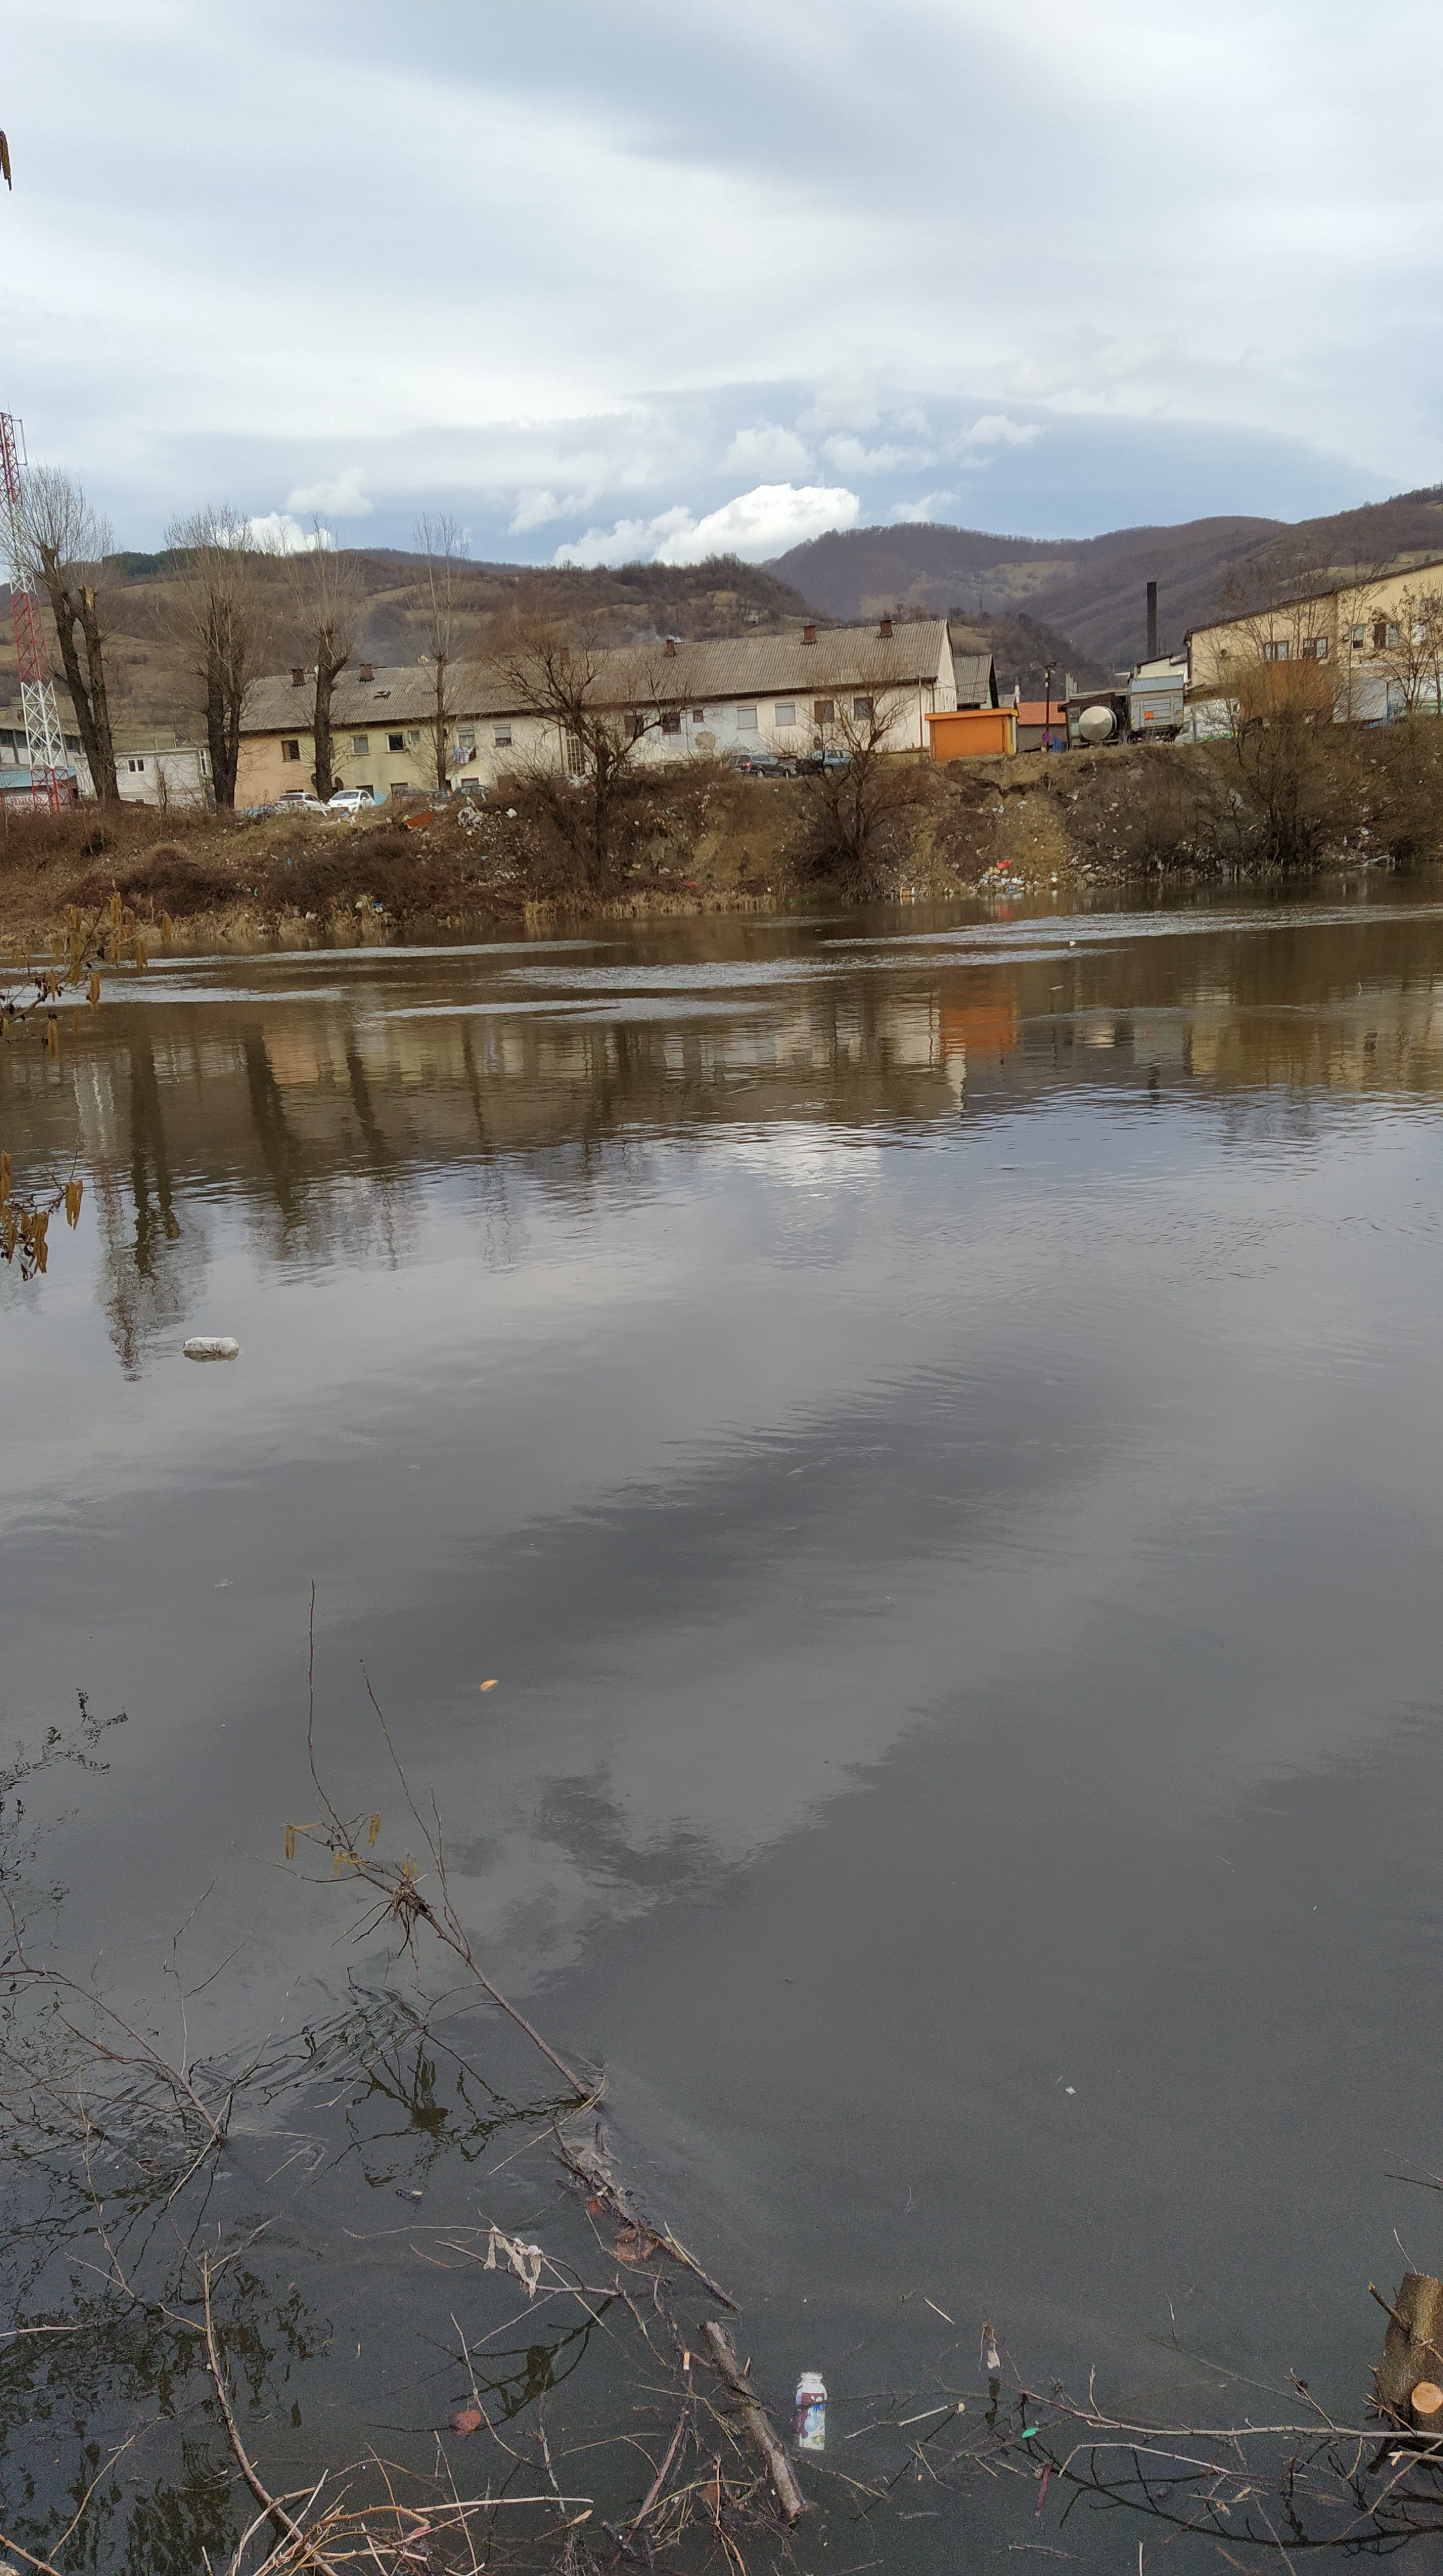Plastic Bottle: (795, 2371, 827, 2450), (182, 1338, 239, 1353), (1050, 984, 1064, 989)
